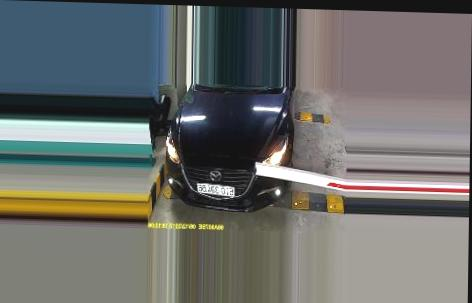License_Plate: (197, 180, 236, 200)
